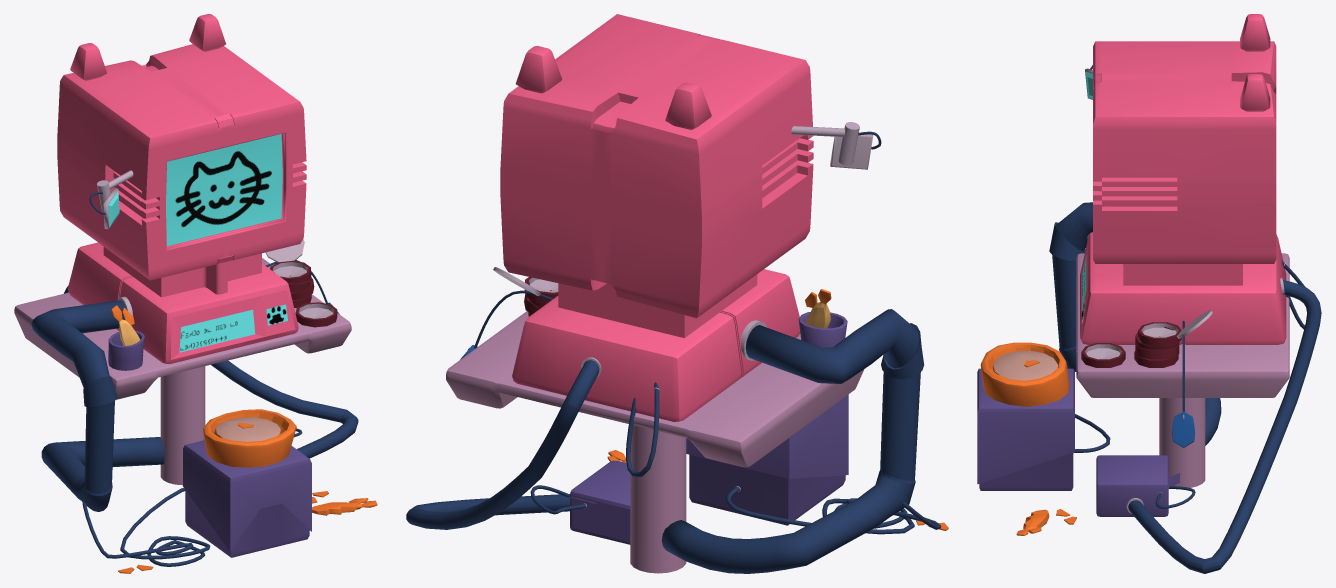
File: computadora_gatito.glb
The picture shows the model from 3 angles, left to right: view 1: azimuth 30°, elevation 25°; view 2: azimuth 150°, elevation 25°; view 3: azimuth 270°, elevation 25°; orthographic projection. The views are drawn at different scales.
Parts seen in each view (by area): view 1: Pc_01, Pc_03_Material #2_0, Caja_01, Cable_01, Mesa, Cama_de_Gato_Material #2_0, Cable_04, Pc_02_Material #2_0, Object001_Material #3_0, Cable_02, Orejita_Material #2_0, Lata_de_comida (+5 smaller); view 2: Pc_01, Mesa, Pc_03_Material #2_0, Cable_01, Caja_01, Cable_04, Pc_02_Material #2_0, Regulador, Orejita_Material #2_0, Cylinder006_Material #2_0, Cable_02, Recipiente (+3 smaller); view 3: Pc_01, Pc_03_Material #2_0, Mesa, Caja_01, Cable_04, Cama_de_Gato_Material #2_0, Cable_01, Regulador, Pc_02_Material #2_0, Orejita_Material #2_0, Lata_de_comida, Lata_de_comida_5 (+3 smaller).
Part boxes in pixels (x1=…): Pc_01: x1=57, y1=44, x2=306, y2=280; Pc_03_Material #2_0: x1=67, y1=242, x2=298, y2=364; Caja_01: x1=183, y1=440, x2=311, y2=557; Cable_01: x1=31, y1=300, x2=164, y2=511; Mesa: x1=14, y1=258, x2=351, y2=485; Cama_de_Gato_Material #2_0: x1=203, y1=409, x2=296, y2=467; Cable_04: x1=211, y1=360, x2=358, y2=458; Pc_02_Material #2_0: x1=103, y1=247, x2=261, y2=297; Object001_Material #3_0: x1=179, y1=304, x2=287, y2=352; Cable_02: x1=82, y1=487, x2=210, y2=566; Orejita_Material #2_0: x1=70, y1=14, x2=225, y2=80; Lata_de_comida: x1=265, y1=239, x2=311, y2=283; Pc_01: x1=500, y1=14, x2=813, y2=318; Mesa: x1=446, y1=311, x2=863, y2=573; Pc_03_Material #2_0: x1=512, y1=269, x2=800, y2=421; Cable_01: x1=661, y1=309, x2=924, y2=573; Caja_01: x1=686, y1=394, x2=848, y2=525; Cable_04: x1=406, y1=360, x2=599, y2=529; Pc_02_Material #2_0: x1=558, y1=274, x2=757, y2=337; Regulador: x1=567, y1=460, x2=630, y2=544; Orejita_Material #2_0: x1=515, y1=46, x2=711, y2=129; Cylinder006_Material #2_0: x1=791, y1=122, x2=881, y2=169; Cable_02: x1=726, y1=487, x2=940, y2=534; Recipiente: x1=798, y1=312, x2=847, y2=347; Pc_01: x1=1093, y1=41, x2=1276, y2=263; Pc_03_Material #2_0: x1=1080, y1=232, x2=1286, y2=344; Mesa: x1=1076, y1=253, x2=1289, y2=487; Caja_01: x1=977, y1=368, x2=1074, y2=490; Cable_04: x1=1128, y1=280, x2=1321, y2=573; Cama_de_Gato_Material #2_0: x1=980, y1=342, x2=1069, y2=406; Cable_01: x1=1049, y1=202, x2=1221, y2=445; Regulador: x1=1096, y1=455, x2=1179, y2=516; Pc_02_Material #2_0: x1=1123, y1=264, x2=1242, y2=285; Orejita_Material #2_0: x1=1240, y1=14, x2=1270, y2=111; Lata_de_comida: x1=1138, y1=310, x2=1212, y2=347; Lata_de_comida_5: x1=1081, y1=343, x2=1125, y2=367.
Size of the model in its own units: 2.6 by 3.11 by 2.22.
2 materials, 2 textured.
